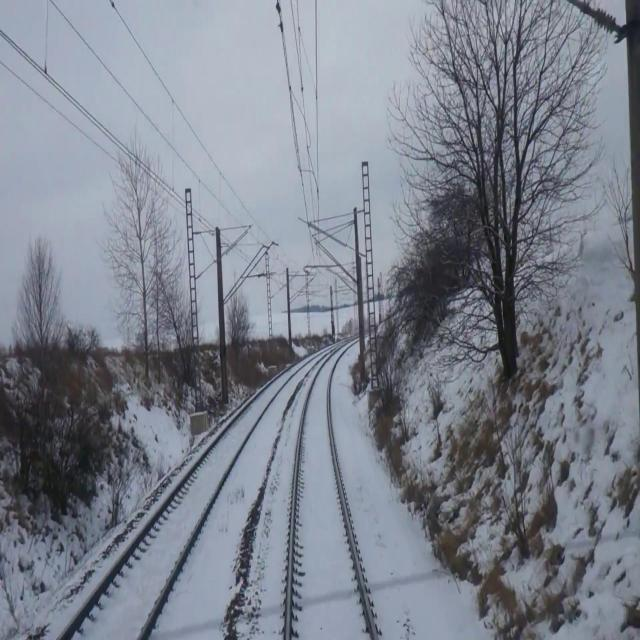rail-track: (62, 364, 299, 639), (290, 350, 374, 639)
